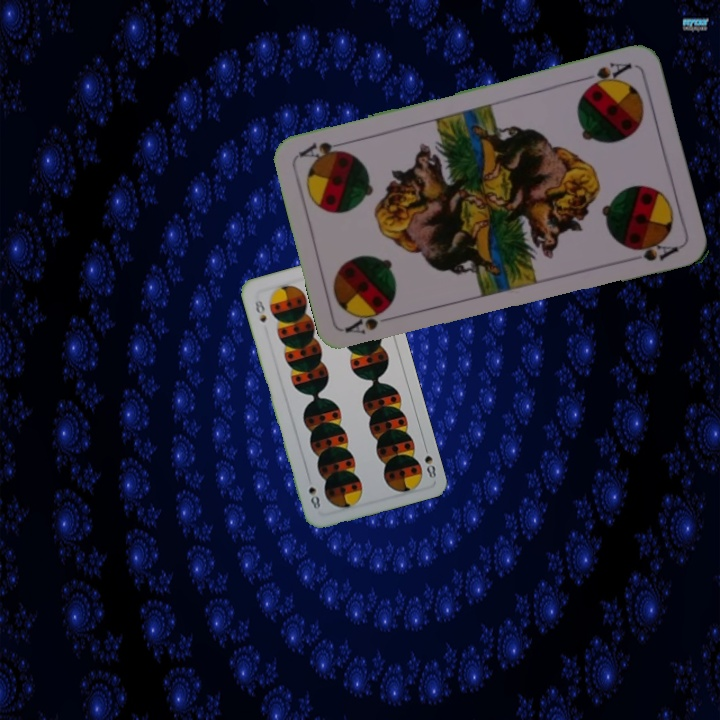S8: (420, 441, 440, 481), (251, 296, 269, 325)
SA: (577, 58, 635, 92), (342, 308, 388, 337)
